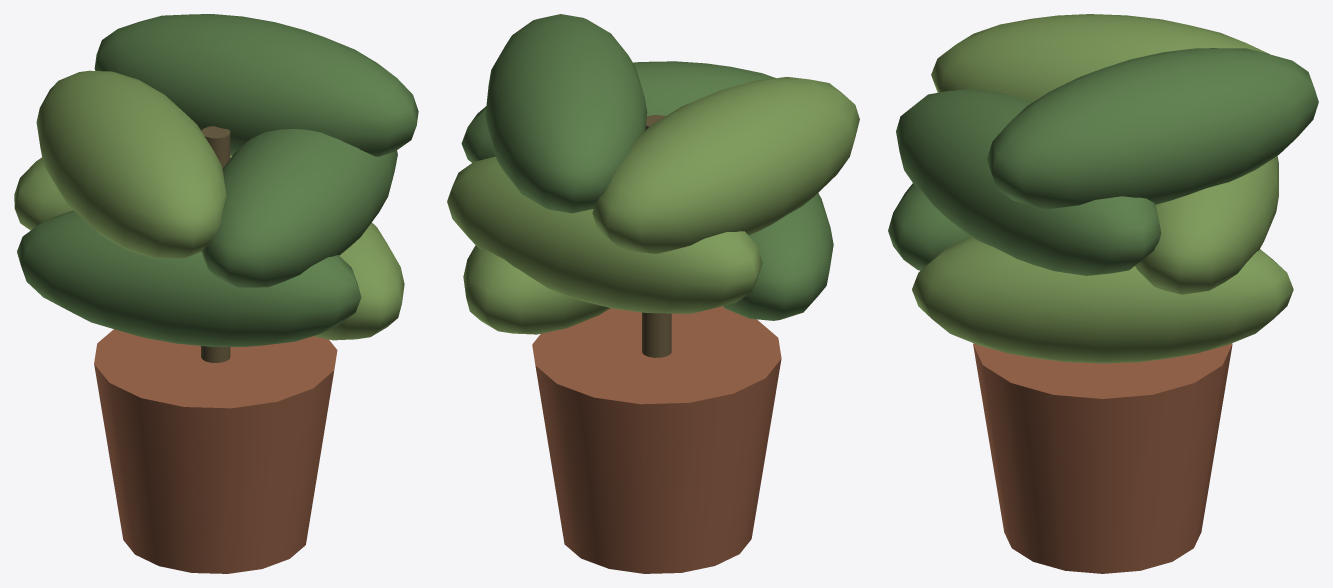
File: plant.glb
3 views of the same model, side by side, from view 1: azimuth 30°, elevation 25°; view 2: azimuth 150°, elevation 25°; view 3: azimuth 270°, elevation 25° (orthographic). The views are drawn at different scales.
Size of the model in its own units: 0.8246 by 1.06 by 0.8304.
